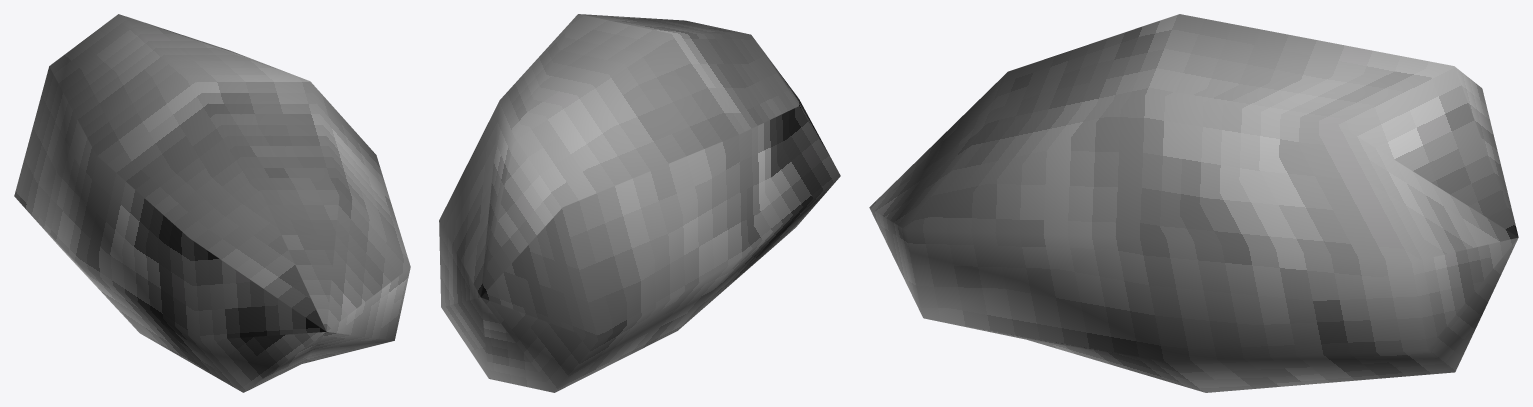
The model's file is ice_stone01.glb.
The picture shows the model from 3 angles, left to right: view 1: azimuth 30°, elevation 25°; view 2: azimuth 150°, elevation 25°; view 3: azimuth 270°, elevation 25°; orthographic projection. The views are drawn at different scales.
Parts seen in each view (by area): view 1: model_ice_stone01; view 2: model_ice_stone01; view 3: model_ice_stone01.
Boxes of the visible parts, box(x1,y1,x2,y2) form: model_ice_stone01: box(14, 14, 410, 392); model_ice_stone01: box(439, 14, 840, 392); model_ice_stone01: box(869, 14, 1518, 392).
Bounding box in the file's own units: 0.0562 × 0.0571 × 0.1.
Materials: 1 (1 with a texture image).
